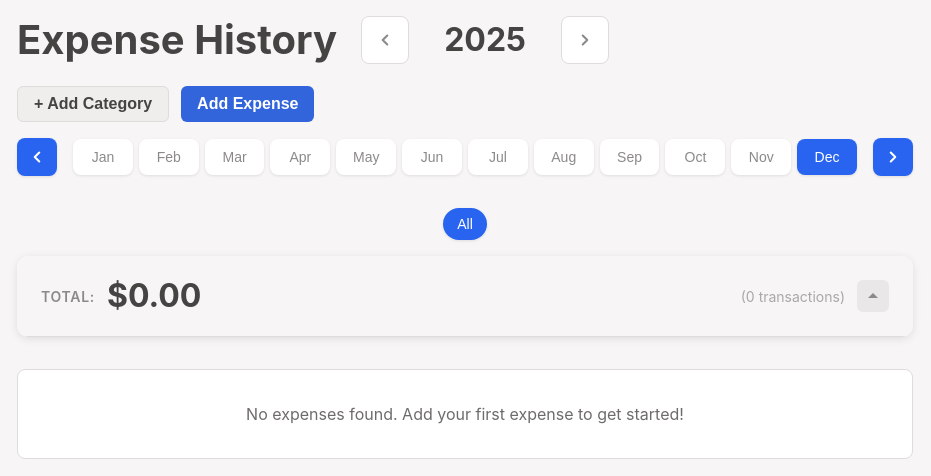
Test: HistoryPage month navigation › rolls the year forward when navigating to the next month from December
Expected: the text "2025" is shown, [444, 20, 526, 59]
Click the button titled "Next month" at {"x": 893, "y": 157}, box [873, 138, 913, 176]
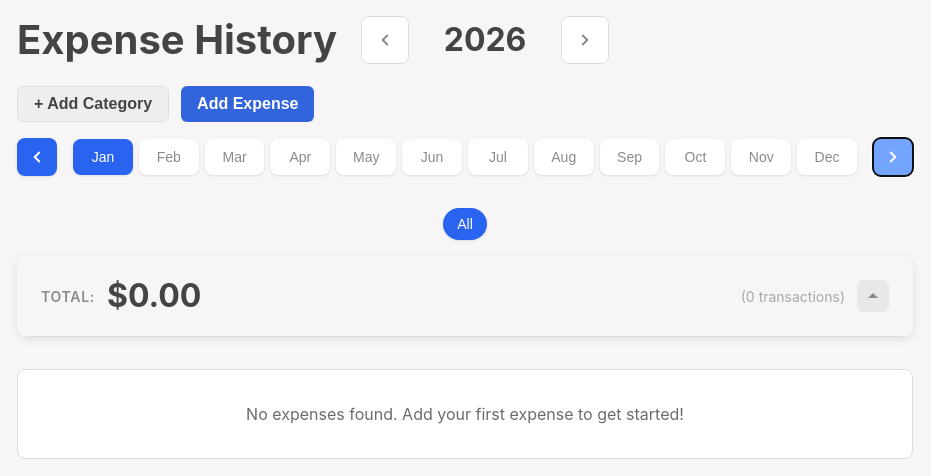
Expected: the text "2026" is shown, [444, 20, 526, 59]
